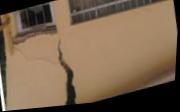crack: (14, 38, 78, 107)
